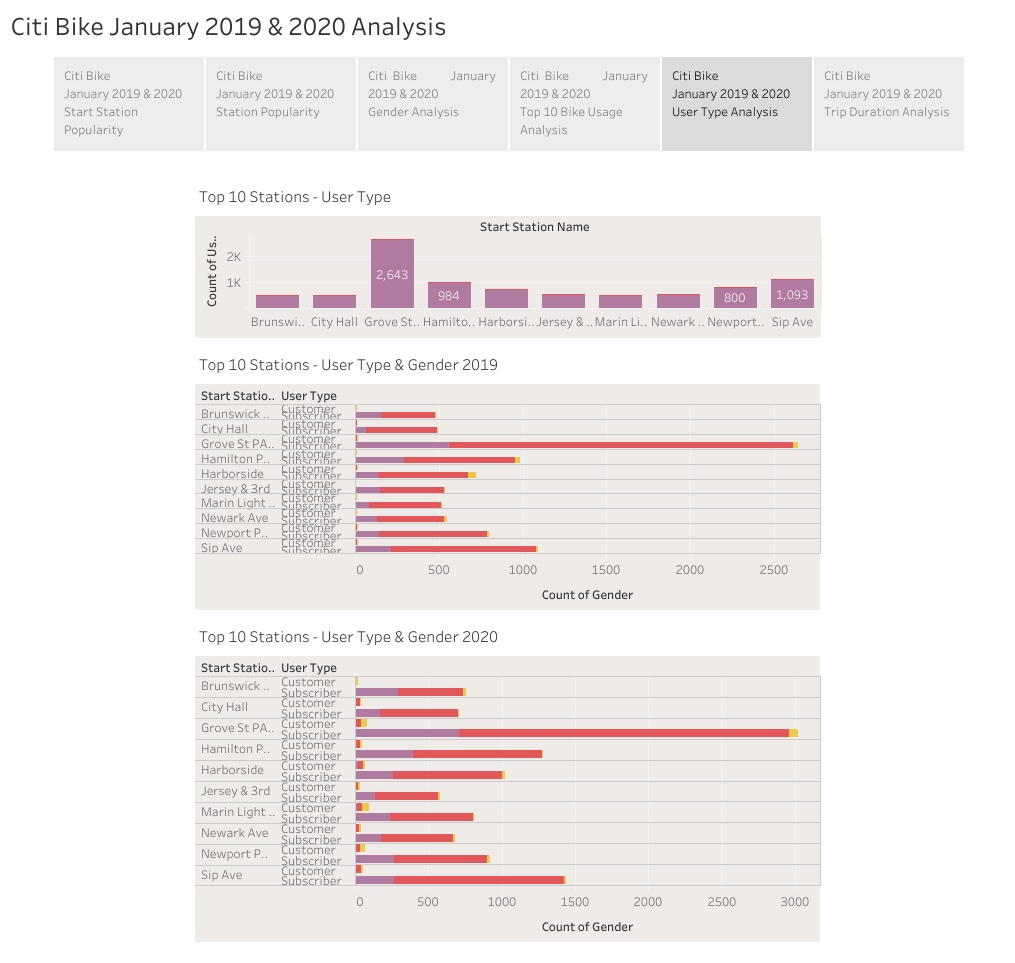

The page's visual inventory and layout, read from the dashboard file:
{"tool":"tableau","page":{"name":"User Type Analysis","canvas":[650,860],"ordinal":7},"visuals":[{"type":"worksheet","box":[0,0,650,860]},{"type":"worksheet","param":"horz","box":[8,8.5,634,843]},{"type":"worksheet","box":[8,8.5,634,843]},{"type":"worksheet","title":"User Type","mark":"Bar","rows":["User Type"],"cols":["Start Time","User Type"],"box":[8,8.5,634,227.5]},{"type":"worksheet","title":"2019 No. Users","mark":"Bar","rows":["User Type"],"cols":["Start Time","Start Time"],"box":[8,236,634,306.2]},{"type":"worksheet","title":"2020 No. Users","mark":"Bar","rows":["User Type"],"cols":["Start Time","Start Time"],"box":[8,542.2,634,309.3]}]}

Visuals, with their boxes on the page's 650x860 design canvas (x1, y1, x2, y2). These are canvas units, not pixel positions in the 1015x963 screenshot, which may show the page scaled, cropped or inside an application window:
worksheet: select_region(0, 0, 650, 860)
worksheet: select_region(8, 8, 642, 852)
worksheet: select_region(8, 8, 642, 852)
"User Type" worksheet (Bar marks): select_region(8, 8, 642, 236)
"2019 No. Users" worksheet (Bar marks): select_region(8, 236, 642, 542)
"2020 No. Users" worksheet (Bar marks): select_region(8, 542, 642, 852)
